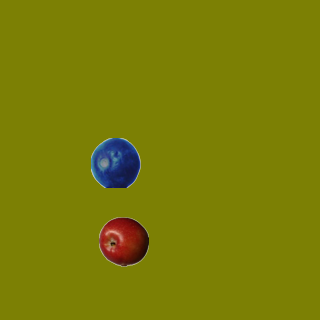Apple Braeburn: (98, 216, 148, 266)
Huckleberry: (90, 137, 140, 187)
